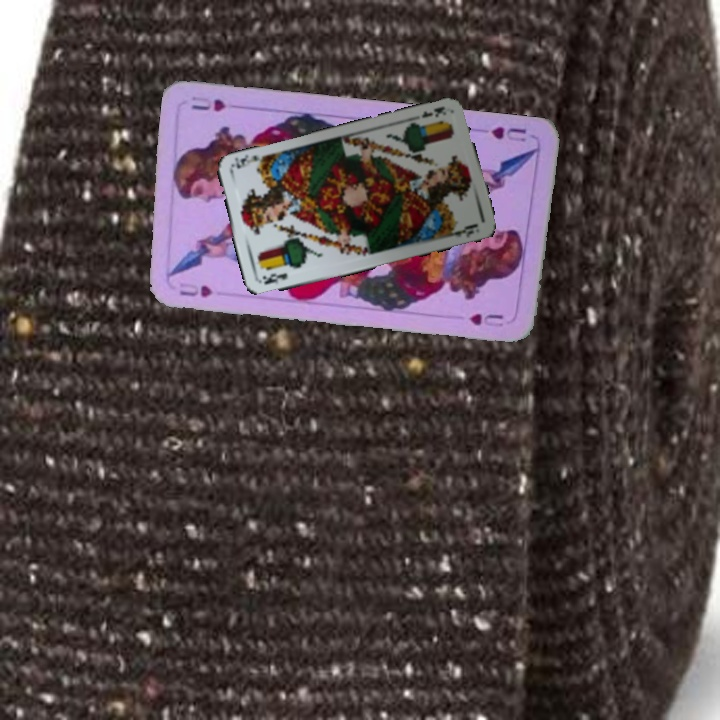EK: (259, 269, 290, 287), (418, 102, 449, 120)
HU: (487, 122, 529, 145), (175, 281, 215, 300)
